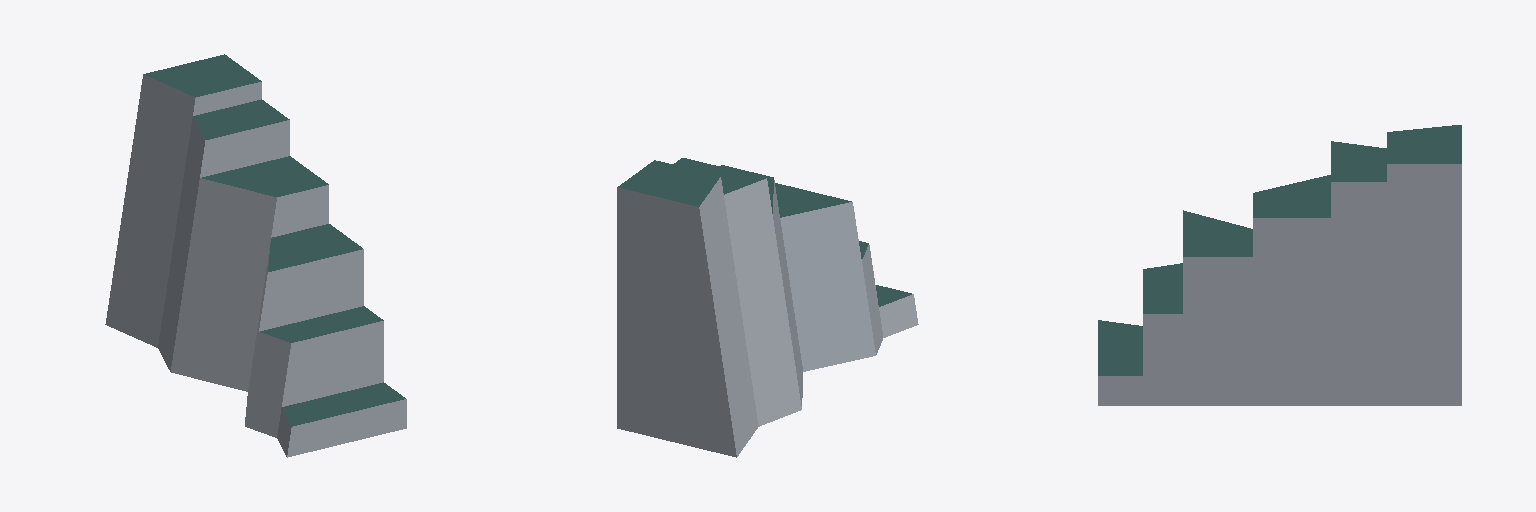
3 renders of one model, left to right at view 1: azimuth 30°, elevation 25°; view 2: azimuth 150°, elevation 25°; view 3: azimuth 270°, elevation 25°, orthographic.
Parts seen in each view (by area): view 1: Mesh1 Grey_Cliff_End_Green_Top Model; view 2: Mesh1 Grey_Cliff_End_Green_Top Model; view 3: Mesh1 Grey_Cliff_End_Green_Top Model.
Boxes of the visible parts, <box> form: Mesh1 Grey_Cliff_End_Green_Top Model: <box>105,54,406,457</box>; Mesh1 Grey_Cliff_End_Green_Top Model: <box>617,158,918,457</box>; Mesh1 Grey_Cliff_End_Green_Top Model: <box>1098,125,1461,405</box>.
Bounding box in the file's own units: 0.38 × 0.7333 × 1.